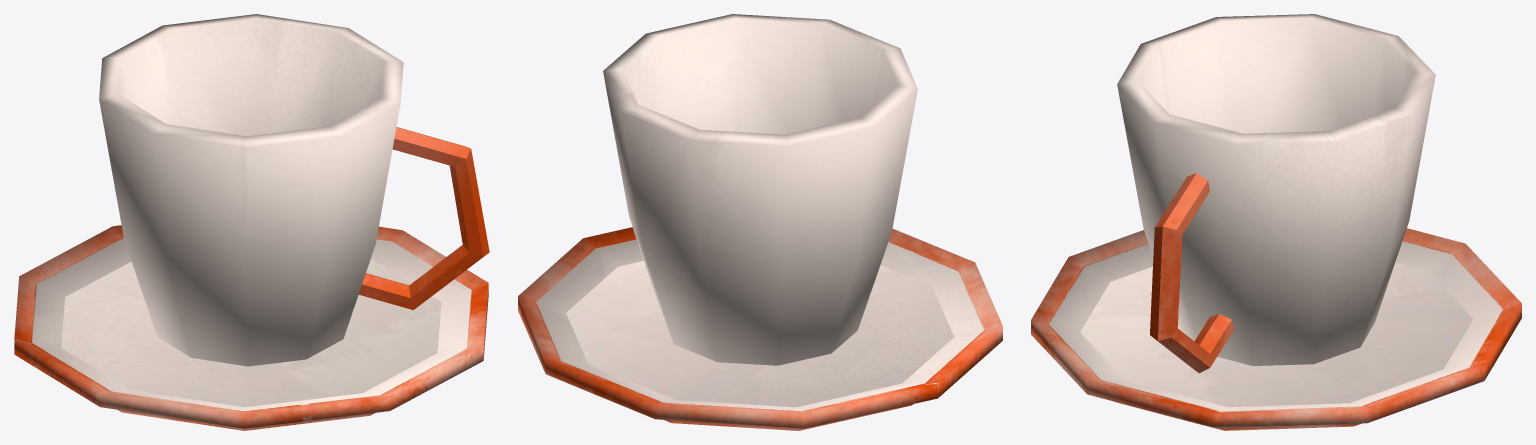
File: 03-tasseceramique-model.glb
The picture shows the model from 3 angles, left to right: view 1: azimuth 30°, elevation 25°; view 2: azimuth 150°, elevation 25°; view 3: azimuth 270°, elevation 25°; orthographic projection.
Parts seen in each view (by area): view 1: 03-tasseceramique-model; view 2: 03-tasseceramique-model; view 3: 03-tasseceramique-model.
Boxes of the visible parts, bbox=[...] form: 03-tasseceramique-model: bbox=[14, 14, 489, 430]; 03-tasseceramique-model: bbox=[518, 14, 1002, 430]; 03-tasseceramique-model: bbox=[1031, 14, 1521, 430].
Bounding box in the file's own units: 3.01 × 1.96 × 3.07.
Materials: 1 (1 with a texture image).
